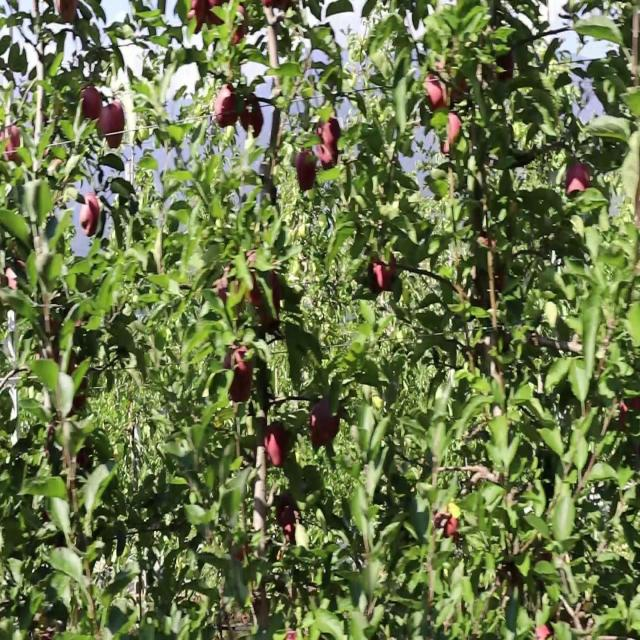apple: (228, 348, 255, 405), (316, 113, 342, 169), (252, 277, 282, 325), (312, 398, 341, 446), (56, 376, 88, 418), (224, 348, 254, 391), (316, 127, 342, 171), (228, 362, 254, 405), (100, 99, 126, 139), (216, 85, 239, 130), (372, 255, 399, 293), (80, 191, 101, 238), (224, 348, 254, 380), (564, 163, 592, 197), (296, 149, 318, 192), (424, 71, 446, 114), (80, 85, 104, 123), (268, 426, 289, 469), (240, 99, 264, 133), (276, 504, 299, 539), (4, 120, 21, 164), (100, 99, 120, 135), (232, 7, 249, 48), (436, 511, 460, 540), (188, 0, 208, 34), (248, 99, 264, 140), (56, 0, 80, 27), (620, 398, 640, 427), (216, 270, 231, 304), (452, 78, 469, 107), (208, 1, 226, 28), (448, 113, 463, 144), (252, 106, 264, 140), (8, 270, 19, 292), (108, 135, 123, 151), (236, 547, 251, 562), (444, 142, 452, 158)
